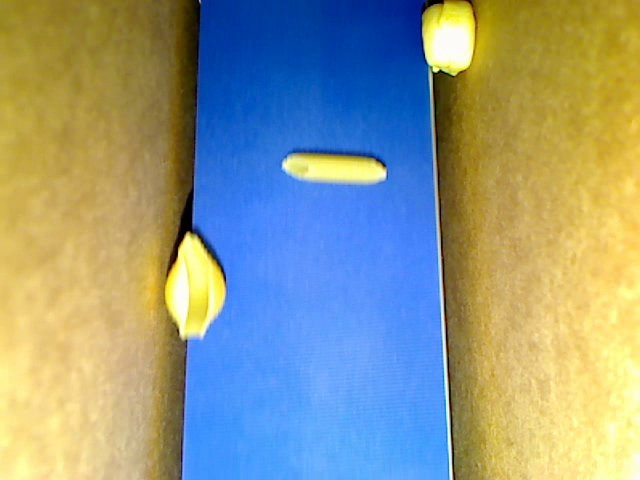penne: (282, 152, 387, 186)
shell: (161, 233, 227, 339)
